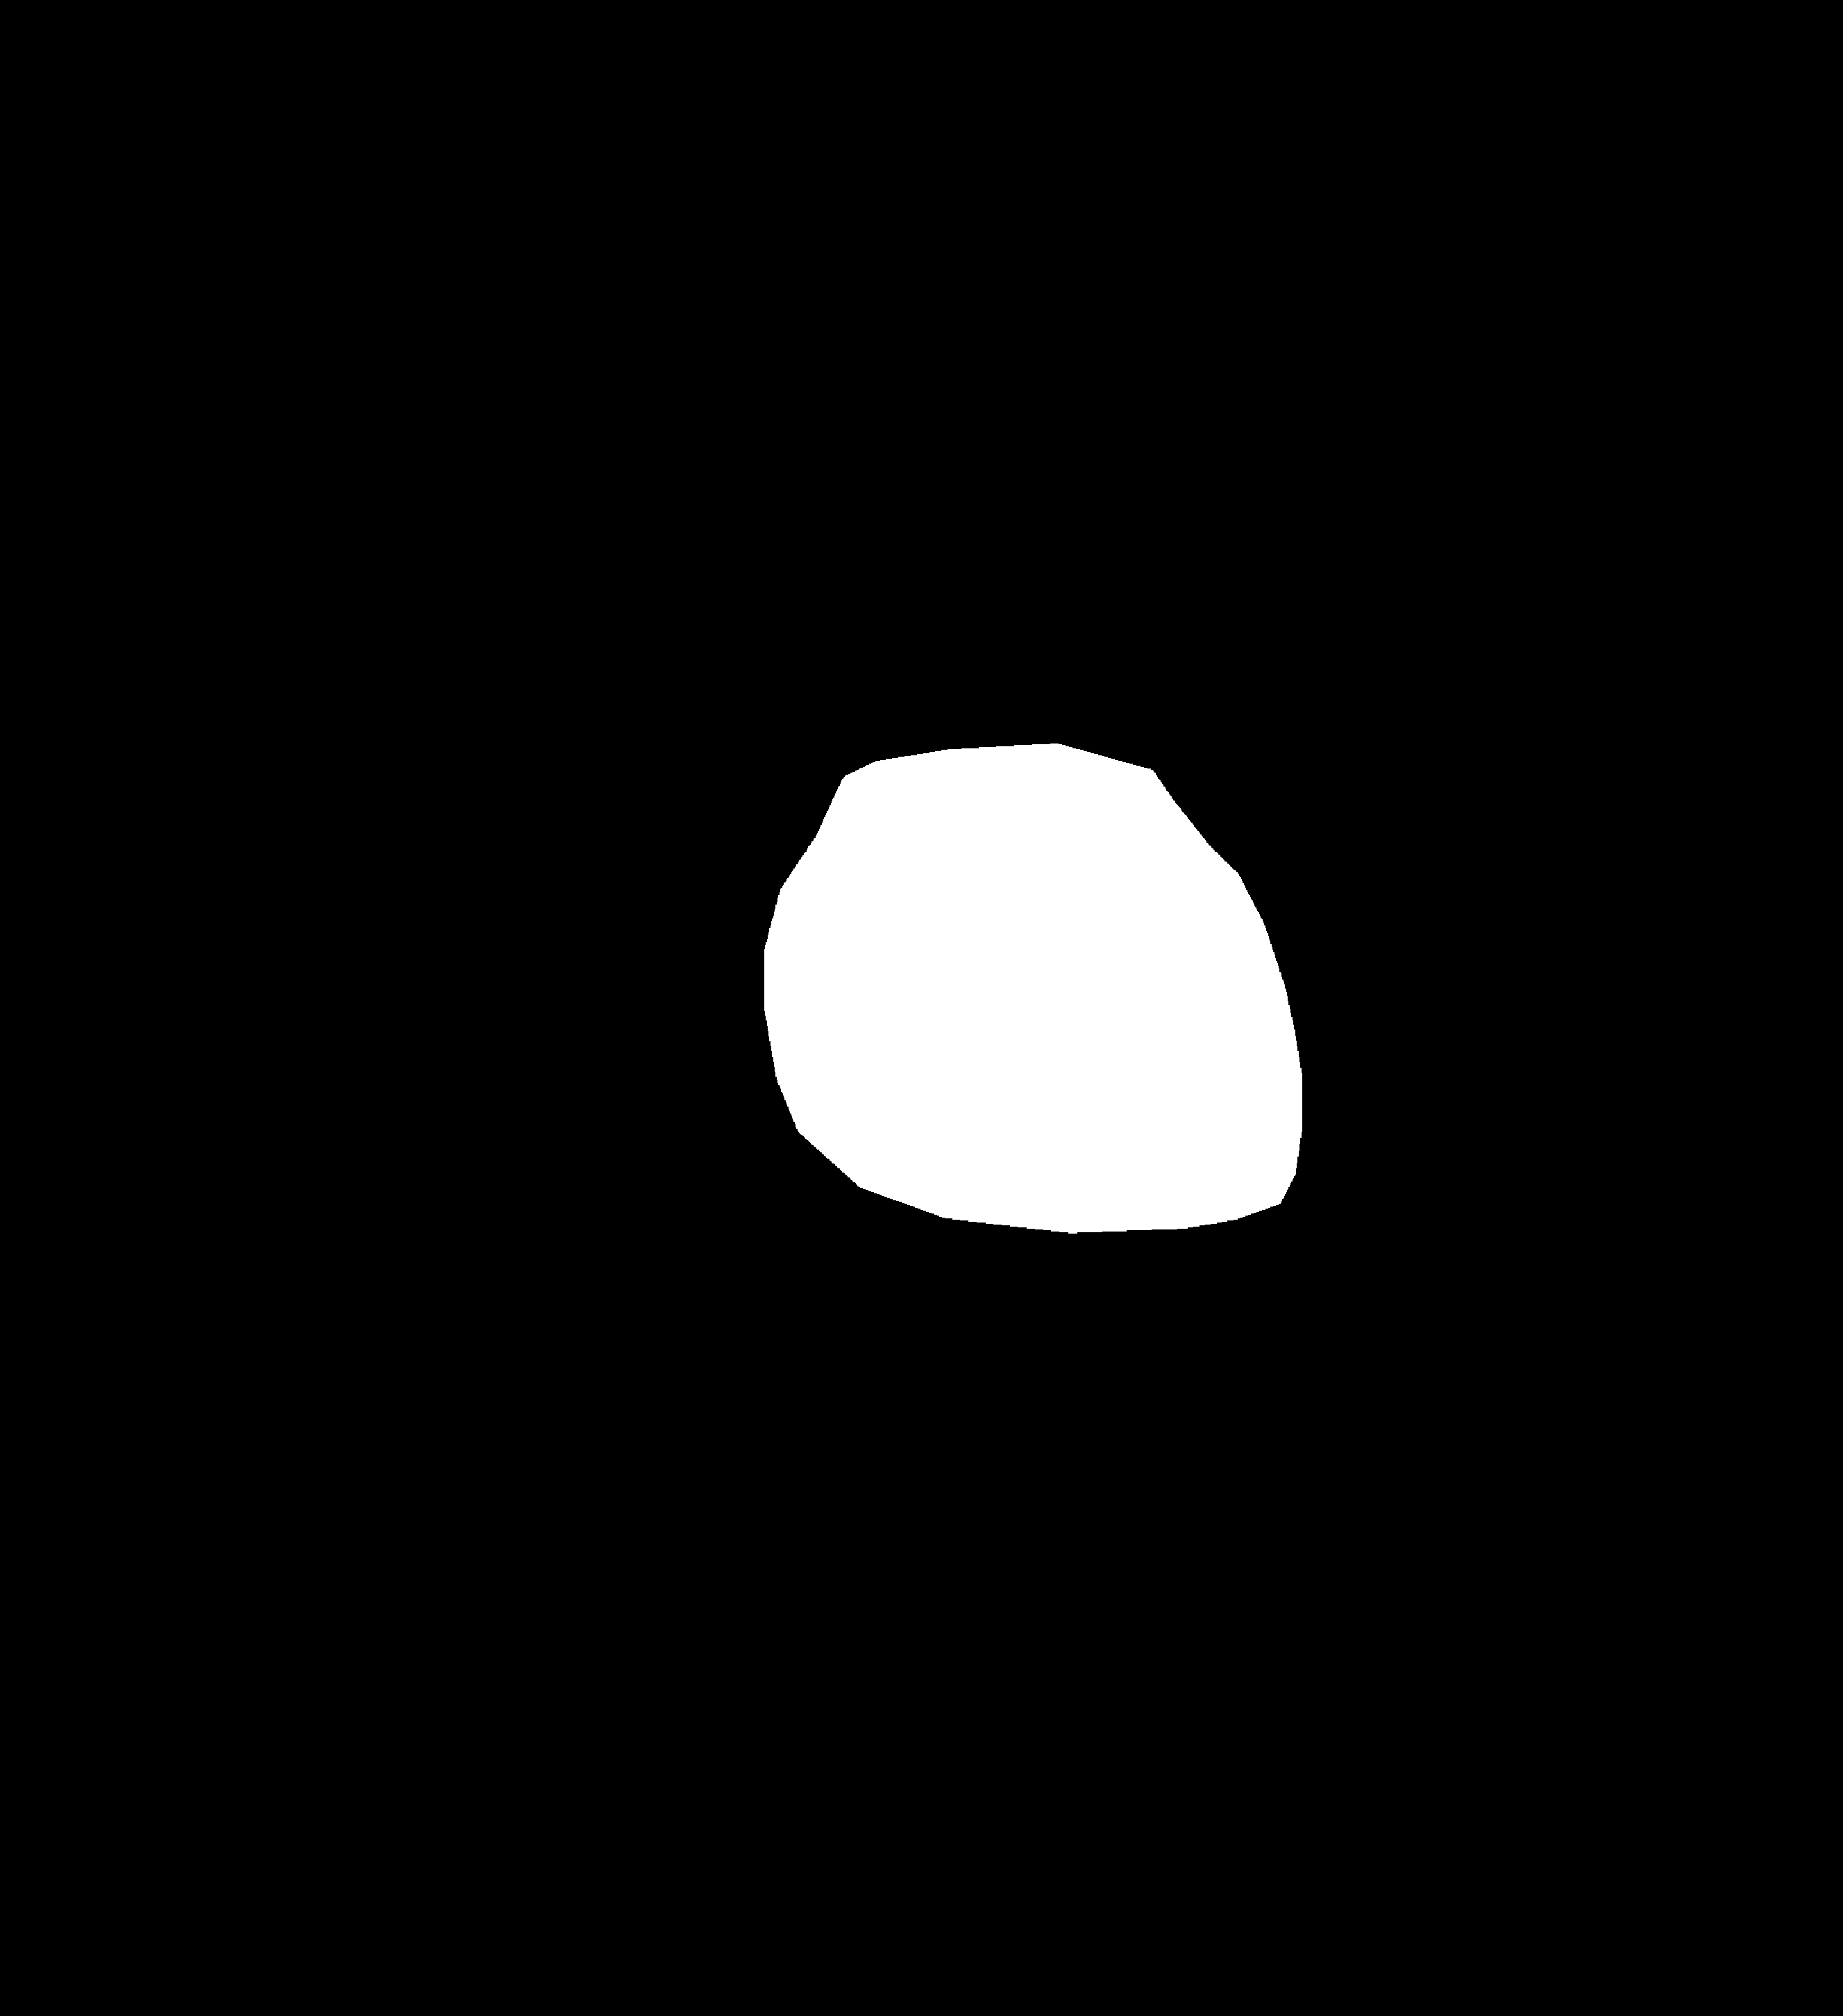heart: (764, 815, 1295, 1226)
left_lung: (263, 272, 888, 1340)
right_lung: (1030, 281, 1567, 1384)
